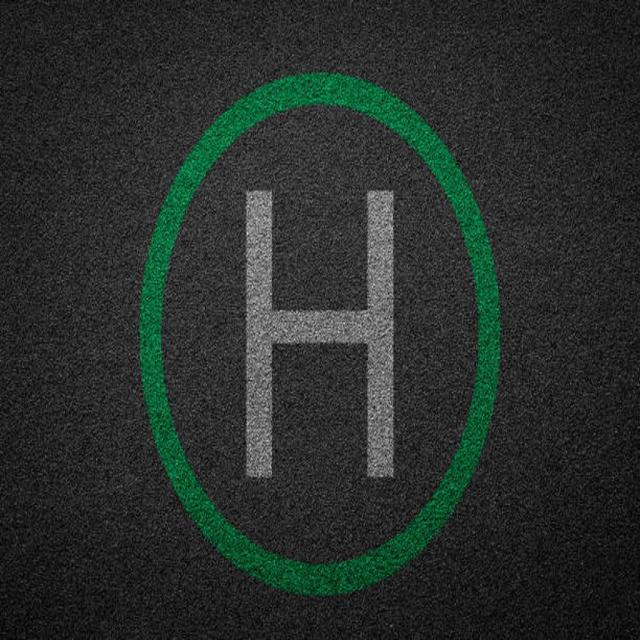helipad: (137, 70, 504, 597)
